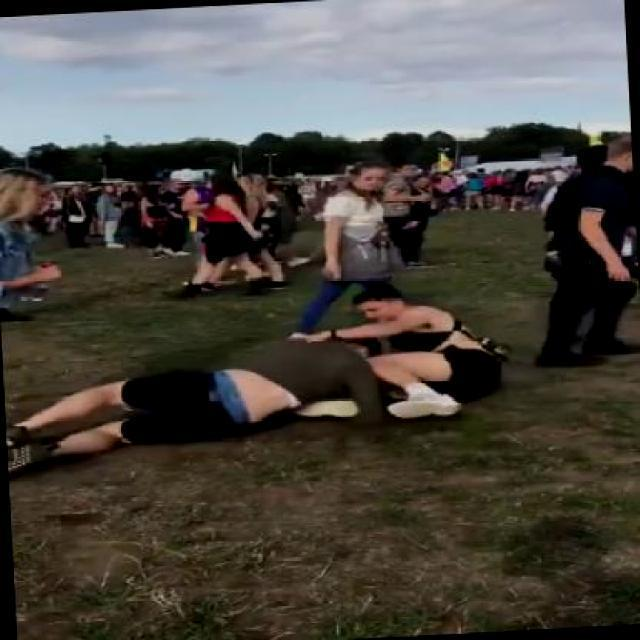fight: (0, 275, 528, 477)
